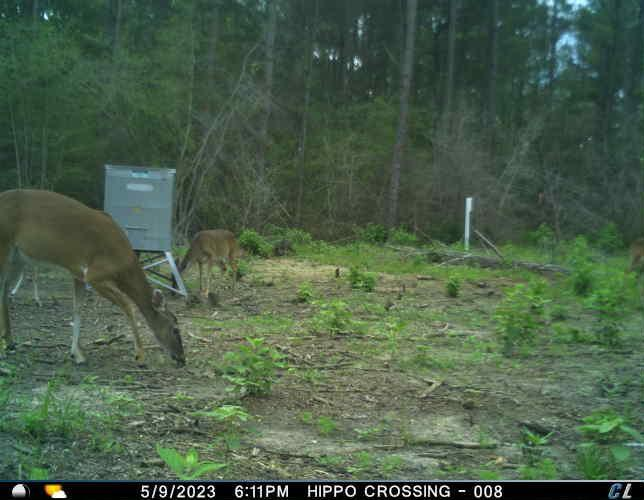Deer: (0, 186, 189, 369), (173, 227, 244, 294), (628, 234, 644, 276)
